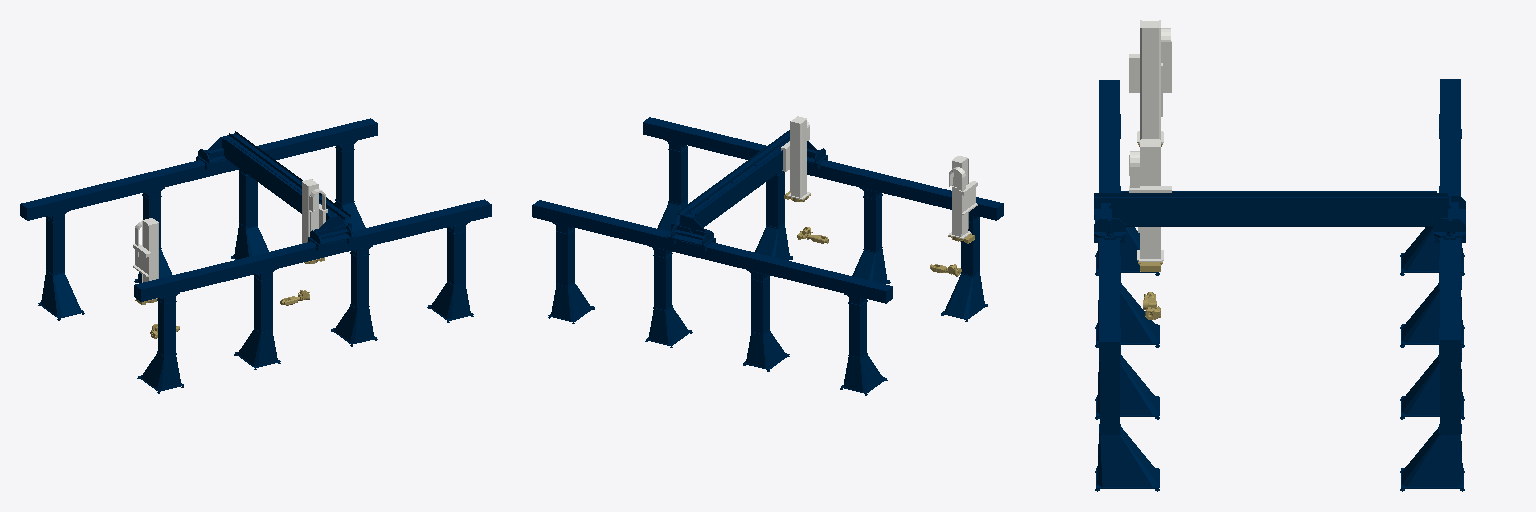
The robot description file, URDF, robot "bar_lab":
<?xml version="1.0" encoding="utf-8"?>
<robot xmlns:xacro="http://ros.org/wiki/xacro" name="bar_lab">
  <!-- Define materials at the top -->
  <!-- Using these as variables is not showing up correctly in RH/GH -->
  <material name="off_white">
    <color rgba="0.9254902 0.9254902 0.9058824 1.0"/>
  </material>
  <material name="gt_blue">
    <color rgba="0.0 0.188235 0.341176 1.0"/>
  </material>
  <material name="gt_gold">
    <color rgba="0.70196 0.63921 0.41176 1.0"/>
  </material>
  <material name="robot_default">
    <color rgba="0.772549 0.7803922 0.7686275 1.0"/>
  </material>
  <!--  -->
  <!-- LINK LIST -->
  <link name="world">
    <visual>
      <origin xyz="0.0 0.0 0.0" rpy="0.0 0.0 0.0"/>
      <geometry>
        <mesh filename="package://bar_lab/meshes/visual/floor.stl"/>
      </geometry>
      <material name="off_white">
        <color rgba="0.9254902 0.9254902 0.9058824 1.0"/>
      </material>
    </visual>
    <collision>
      <origin xyz="0.0 0.0 0.0" rpy="0.0 0.0 0.0"/>
      <geometry>
        <mesh filename="package://bar_lab/meshes/collision/floor.stl"/>
      </geometry>
    </collision>
  </link>
  <link name="columns">
    <visual>
      <origin xyz="0.0 0.0 0.0" rpy="0.0 0.0 0.0"/>
      <geometry>
        <mesh filename="package://bar_lab/meshes/visual/columns.stl"/>
      </geometry>
      <material name="gt_blue">
        <color rgba="0.0 0.188235 0.341176 1.0"/>
      </material>
    </visual>
    <collision>
      <origin xyz="0.0 0.0 0.0" rpy="0.0 0.0 0.0"/>
      <geometry>
        <mesh filename="package://bar_lab/meshes/collision/columns.stl"/>
      </geometry>
    </collision>
  </link>
  <link name="x_rail">
    <visual>
      <origin xyz="0.0 0.0 0.0" rpy="0.0 0.0 0.0"/>
      <geometry>
        <mesh filename="package://bar_lab/meshes/visual/x_rail.stl"/>
      </geometry>
      <material name="gt_blue">
        <color rgba="0.0 0.188235 0.341176 1.0"/>
      </material>
    </visual>
    <collision>
      <origin xyz="0.0 0.0 0.0" rpy="0.0 0.0 0.0"/>
      <geometry>
        <mesh filename="package://bar_lab/meshes/collision/x_rail.stl"/>
      </geometry>
    </collision>
  </link>
  <link name="bridge1">
    <visual>
      <origin xyz="0.0 0.0 0.0" rpy="0.0 0.0 0.0"/>
      <geometry>
        <mesh filename="package://bar_lab/meshes/visual/y_gantry1.stl"/>
      </geometry>
      <material name="gt_blue">
        <color rgba="0.0 0.188235 0.341176 1.0"/>
      </material>
    </visual>
    <collision>
      <origin xyz="0.0 0.0 0.0" rpy="0.0 0.0 0.0"/>
      <geometry>
        <mesh filename="package://bar_lab/meshes/collision/y_gantry1.stl"/>
      </geometry>
    </collision>
    <inertial>
      <origin xyz="0.0 0.0 0.0" rpy="0.0 0.0 0.0"/>
      <mass value="120.0"/>
      <inertia ixx="-4.98" ixy="-0.0" ixz="2.7" iyy="-5.952" iyz="-0.0" izz="0.828"/>
    </inertial>
  </link>
  <link name="robot1_xy_cart">
    <visual>
      <origin xyz="0.0 0.0 0.0" rpy="0.0 0.0 0.0"/>
      <geometry>
        <mesh filename="package://bar_lab/meshes/visual/xy_cart.stl"/>
      </geometry>
      <material name="off_white">
        <color rgba="0.9254902 0.9254902 0.9058824 1.0"/>
      </material>
    </visual>
    <collision>
      <origin xyz="0.0 0.0 0.0" rpy="0.0 0.0 0.0"/>
      <geometry>
        <mesh filename="package://bar_lab/meshes/collision/xy_cart.stl"/>
      </geometry>
    </collision>
    <inertial>
      <origin xyz="0.0 0.0 0.0" rpy="0.0 0.0 0.0"/>
      <mass value="120.0"/>
      <inertia ixx="-4.98" ixy="-0.0" ixz="2.7" iyy="-5.952" iyz="-0.0" izz="0.828"/>
    </inertial>
  </link>
  <link name="robot1_base">
    <visual>
      <origin xyz="0.0 0.0 0.0" rpy="0.0 0.0 0.0"/>
      <geometry>
        <mesh filename="package://bar_lab/meshes/visual/z_axis.stl"/>
      </geometry>
      <material name="off_white">
        <color rgba="0.9254902 0.9254902 0.9058824 1.0"/>
      </material>
    </visual>
    <collision>
      <origin xyz="0.0 0.0 0.0" rpy="0.0 0.0 0.0"/>
      <geometry>
        <mesh filename="package://bar_lab/meshes/collision/z_axis.stl"/>
      </geometry>
    </collision>
    <inertial>
      <origin xyz="0.0 0.0 0.0" rpy="0.0 0.0 0.0"/>
      <mass value="120.0"/>
      <inertia ixx="-4.98" ixy="-0.0" ixz="2.7" iyy="-5.952" iyz="-0.0" izz="0.828"/>
    </inertial>
  </link>
  <link name="robot1_base_link">
    <visual>
      <geometry>
        <mesh filename="package://abb_irb6620/meshes/visual/base_link.stl"/>
      </geometry>
      <material name="gt_gold">
        <color rgba="0.70196 0.63921 0.41176 1.0"/>
      </material>
    </visual>
    <collision>
      <geometry>
        <mesh filename="package://abb_irb6620/meshes/collision/base_link.stl"/>
      </geometry>
    </collision>
    <inertial>
      <origin xyz="0.0 0.0 0.0" rpy="0.0 0.0 0.0"/>
      <mass value="120.0"/>
      <inertia ixx="-4.98" ixy="0.0" ixz="2.7" iyy="-5.952" iyz="0.0" izz="0.828"/>
    </inertial>
  </link>
  <link name="robot1_link_1">
    <visual>
      <geometry>
        <mesh filename="package://abb_irb6620/meshes/visual/link_1.stl"/>
      </geometry>
      <material name="gt_gold">
        <color rgba="0.70196 0.63921 0.41176 1.0"/>
      </material>
    </visual>
    <collision>
      <geometry>
        <mesh filename="package://abb_irb6620/meshes/collision/link_1.stl"/>
      </geometry>
    </collision>
    <inertial>
      <origin xyz="0.18 0.0 0.5" rpy="0.0 0.0 0.0"/>
      <mass value="120.0"/>
      <inertia ixx="-4.98" ixy="0.0" ixz="2.7" iyy="-5.952" iyz="0.0" izz="0.828"/>
    </inertial>
  </link>
  <link name="robot1_link_2">
    <visual>
      <geometry>
        <mesh filename="package://abb_irb6620/meshes/visual/link_2.stl"/>
      </geometry>
      <material name="gt_gold">
        <color rgba="0.70196 0.63921 0.41176 1.0"/>
      </material>
    </visual>
    <collision>
      <geometry>
        <mesh filename="package://abb_irb6620/meshes/collision/link_2.stl"/>
      </geometry>
    </collision>
    <inertial>
      <origin xyz="0.94 0.08 -0.34" rpy="0.0 0.0 0.0"/>
      <mass value="120.0"/>
      <inertia ixx="-2.96" ixy="2.256" ixz="-9.588" iyy="-18.72601" iyz="-0.816" izz="-14.95"/>
    </inertial>
  </link>
  <link name="robot1_link_3">
    <visual>
      <geometry>
        <mesh filename="package://abb_irb6620/meshes/visual/link_3.stl"/>
      </geometry>
      <material name="gt_gold">
        <color rgba="0.70196 0.63921 0.41176 1.0"/>
      </material>
    </visual>
    <collision>
      <geometry>
        <mesh filename="package://abb_irb6620/meshes/collision/link_3.stl"/>
      </geometry>
    </collision>
    <inertial>
      <origin xyz="0.07 -0.266 0.088" rpy="0.0 0.0 0.0"/>
      <mass value="120.0"/>
      <inertia ixx="1.345" ixy="0.5586" ixz="0.1848" iyy="4.65068" iyz="-0.70224" izz="2.76032"/>
    </inertial>
  </link>
  <link name="robot1_link_4">
    <visual>
      <geometry>
        <mesh filename="package://abb_irb6620/meshes/visual/link_4.stl"/>
      </geometry>
      <material name="gt_gold">
        <color rgba="0.70196 0.63921 0.41176 1.0"/>
      </material>
    </visual>
    <collision>
      <geometry>
        <mesh filename="package://abb_irb6620/meshes/collision/link_4.stl"/>
      </geometry>
    </collision>
    <inertial>
      <origin xyz="0.0 0.0 1.0" rpy="0.0 0.0 0.0"/>
      <mass value="40.0"/>
      <inertia ixx="-8.0" ixy="0.0" ixz="0.0" iyy="-8.0" iyz="0.0" izz="0.482"/>
    </inertial>
  </link>
  <link name="robot1_link_5">
    <visual>
      <geometry>
        <mesh filename="package://abb_irb6620/meshes/visual/link_5.stl"/>
      </geometry>
      <material name="gt_gold">
        <color rgba="0.70196 0.63921 0.41176 1.0"/>
      </material>
    </visual>
    <collision>
      <geometry>
        <mesh filename="package://abb_irb6620/meshes/collision/link_5.stl"/>
      </geometry>
    </collision>
    <inertial>
      <origin xyz="0.14 0.0 0.0" rpy="0.0 0.0 0.0"/>
      <mass value="10.0"/>
      <inertia ixx="0.04" ixy="0.0" ixz="0.0" iyy="-0.009" iyz="0.0" izz="-0.004"/>
    </inertial>
  </link>
  <link name="robot1_link_6">
    <visual>
      <geometry>
        <mesh filename="package://abb_irb6620/meshes/visual/link_6.stl"/>
      </geometry>
      <material name="gt_gold">
        <color rgba="0.70196 0.63921 0.41176 1.0"/>
      </material>
    </visual>
    <collision>
      <geometry>
        <mesh filename="package://abb_irb6620/meshes/collision/link_6.stl"/>
      </geometry>
    </collision>
    <inertial>
      <origin xyz="0.081 -0.091 0.332" rpy="0.0 0.0 0.0"/>
      <mass value="5.0"/>
      <inertia ixx="-0.29652" ixy="-0.03686" ixz="0.09396" iyy="-0.28792" iyz="-0.10556" izz="-0.04621"/>
    </inertial>
  </link>
  <link name="robot1_tool0"/>
  <link name="bridge2">
    <visual>
      <origin xyz="0.0 0 0.0" rpy="0.0 0.0 0"/>
      <geometry>
        <mesh filename="package://bar_lab/meshes/visual/y_gantry2.stl"/>
      </geometry>
      <material name="gt_blue">
        <color rgba="0.0 0.188235 0.341176 1.0"/>
      </material>
    </visual>
    <collision>
      <origin xyz="0.0 0 0.0" rpy="0.0 0.0 0"/>
      <geometry>
        <mesh filename="package://bar_lab/meshes/collision/y_gantry2.stl"/>
      </geometry>
    </collision>
    <inertial>
      <origin xyz="0.0 0.0 0.0" rpy="0.0 0.0 0.0"/>
      <mass value="120.0"/>
      <inertia ixx="-4.98" ixy="-0.0" ixz="2.7" iyy="-5.952" iyz="-0.0" izz="0.828"/>
    </inertial>
  </link>
  <link name="robot2_xy_cart">
    <visual>
      <origin xyz="0.0 0.0 0.0" rpy="0.0 0.0 -3.1415926535895866"/>
      <geometry>
        <mesh filename="package://bar_lab/meshes/visual/xy_cart.stl"/>
      </geometry>
      <material name="off_white">
        <color rgba="0.9254902 0.9254902 0.9058824 1.0"/>
      </material>
    </visual>
    <collision>
      <origin xyz="0.0 0.0 0.0" rpy="0.0 0.0 -3.1415926535895866"/>
      <geometry>
        <mesh filename="package://bar_lab/meshes/collision/xy_cart.stl"/>
      </geometry>
    </collision>
    <inertial>
      <origin xyz="0.0 0.0 0.0" rpy="0.0 0.0 0.0"/>
      <mass value="120.0"/>
      <inertia ixx="-4.98" ixy="-0.0" ixz="2.7" iyy="-5.952" iyz="-0.0" izz="0.828"/>
    </inertial>
  </link>
  <link name="robot2_base">
    <visual>
      <origin xyz="0.0 0.0 0.0" rpy="0.0 0.0 -3.1415926535895866"/>
      <geometry>
        <mesh filename="package://bar_lab/meshes/visual/z_axis.stl"/>
      </geometry>
      <material name="off_white">
        <color rgba="0.9254902 0.9254902 0.9058824 1.0"/>
      </material>
    </visual>
    <collision>
      <origin xyz="0.0 0.0 0.0" rpy="0.0 0.0 -3.1415926535895866"/>
      <geometry>
        <mesh filename="package://bar_lab/meshes/collision/z_axis.stl"/>
      </geometry>
    </collision>
    <inertial>
      <origin xyz="0.0 0.0 0.0" rpy="0.0 0.0 0.0"/>
      <mass value="120.0"/>
      <inertia ixx="-4.98" ixy="-0.0" ixz="2.7" iyy="-5.952" iyz="-0.0" izz="0.828"/>
    </inertial>
  </link>
  <link name="robot2_base_link">
    <visual>
      <geometry>
        <mesh filename="package://abb_irb6620/meshes/visual/base_link.stl"/>
      </geometry>
      <material name="gt_gold">
        <color rgba="0.70196 0.63921 0.41176 1.0"/>
      </material>
    </visual>
    <collision>
      <geometry>
        <mesh filename="package://abb_irb6620/meshes/collision/base_link.stl"/>
      </geometry>
    </collision>
    <inertial>
      <origin xyz="0.0 0.0 0.0" rpy="0.0 0.0 0.0"/>
      <mass value="120.0"/>
      <inertia ixx="-4.98" ixy="0.0" ixz="2.7" iyy="-5.952" iyz="0.0" izz="0.828"/>
    </inertial>
  </link>
  <link name="robot2_link_1">
    <visual>
      <geometry>
        <mesh filename="package://abb_irb6620/meshes/visual/link_1.stl"/>
      </geometry>
      <material name="gt_gold">
        <color rgba="0.70196 0.63921 0.41176 1.0"/>
      </material>
    </visual>
    <collision>
      <geometry>
        <mesh filename="package://abb_irb6620/meshes/collision/link_1.stl"/>
      </geometry>
    </collision>
    <inertial>
      <origin xyz="0.18 0.0 0.5" rpy="0.0 0.0 0.0"/>
      <mass value="120.0"/>
      <inertia ixx="-4.98" ixy="0.0" ixz="2.7" iyy="-5.952" iyz="0.0" izz="0.828"/>
    </inertial>
  </link>
  <link name="robot2_link_2">
    <visual>
      <geometry>
        <mesh filename="package://abb_irb6620/meshes/visual/link_2.stl"/>
      </geometry>
      <material name="gt_gold">
        <color rgba="0.70196 0.63921 0.41176 1.0"/>
      </material>
    </visual>
    <collision>
      <geometry>
        <mesh filename="package://abb_irb6620/meshes/collision/link_2.stl"/>
      </geometry>
    </collision>
    <inertial>
      <origin xyz="0.94 0.08 -0.34" rpy="0.0 0.0 0.0"/>
      <mass value="120.0"/>
      <inertia ixx="-2.96" ixy="2.256" ixz="-9.588" iyy="-18.72601" iyz="-0.816" izz="-14.95"/>
    </inertial>
  </link>
  <link name="robot2_link_3">
    <visual>
      <geometry>
        <mesh filename="package://abb_irb6620/meshes/visual/link_3.stl"/>
      </geometry>
      <material name="gt_gold">
        <color rgba="0.70196 0.63921 0.41176 1.0"/>
      </material>
    </visual>
    <collision>
      <geometry>
        <mesh filename="package://abb_irb6620/meshes/collision/link_3.stl"/>
      </geometry>
    </collision>
    <inertial>
      <origin xyz="0.07 -0.266 0.088" rpy="0.0 0.0 0.0"/>
      <mass value="120.0"/>
      <inertia ixx="1.345" ixy="0.5586" ixz="0.1848" iyy="4.65068" iyz="-0.70224" izz="2.76032"/>
    </inertial>
  </link>
  <link name="robot2_link_4">
    <visual>
      <geometry>
        <mesh filename="package://abb_irb6620/meshes/visual/link_4.stl"/>
      </geometry>
      <material name="gt_gold">
        <color rgba="0.70196 0.63921 0.41176 1.0"/>
      </material>
    </visual>
    <collision>
      <geometry>
        <mesh filename="package://abb_irb6620/meshes/collision/link_4.stl"/>
      </geometry>
    </collision>
    <inertial>
      <origin xyz="0.0 0.0 1.0" rpy="0.0 0.0 0.0"/>
      <mass value="40.0"/>
      <inertia ixx="-8.0" ixy="0.0" ixz="0.0" iyy="-8.0" iyz="0.0" izz="0.482"/>
    </inertial>
  </link>
  <link name="robot2_link_5">
    <visual>
      <geometry>
        <mesh filename="package://abb_irb6620/meshes/visual/link_5.stl"/>
      </geometry>
      <material name="gt_gold">
        <color rgba="0.70196 0.63921 0.41176 1.0"/>
      </material>
    </visual>
    <collision>
      <geometry>
        <mesh filename="package://abb_irb6620/meshes/collision/link_5.stl"/>
      </geometry>
    </collision>
    <inertial>
      <origin xyz="0.14 0.0 0.0" rpy="0.0 0.0 0.0"/>
      <mass value="10.0"/>
      <inertia ixx="0.04" ixy="0.0" ixz="0.0" iyy="-0.009" iyz="0.0" izz="-0.004"/>
    </inertial>
  </link>
  <link name="robot2_link_6">
    <visual>
      <geometry>
        <mesh filename="package://abb_irb6620/meshes/visual/link_6.stl"/>
      </geometry>
      <material name="gt_gold">
        <color rgba="0.70196 0.63921 0.41176 1.0"/>
      </material>
    </visual>
    <collision>
      <geometry>
        <mesh filename="package://abb_irb6620/meshes/collision/link_6.stl"/>
      </geometry>
    </collision>
    <inertial>
      <origin xyz="0.081 -0.091 0.332" rpy="0.0 0.0 0.0"/>
      <mass value="5.0"/>
      <inertia ixx="-0.29652" ixy="-0.03686" ixz="0.09396" iyy="-0.28792" iyz="-0.10556" izz="-0.04621"/>
    </inertial>
  </link>
  <link name="robot2_tool0"/>
  <!--  -->
  <!--  -->
  <!-- GLOBAL JOINTS -->
  <joint name="world_joint" type="fixed">
    <parent link="world"/>
    <child link="columns"/>
    <axis xyz="1.0 0.0 0.0"/>
    <origin xyz="0.0 0.0 0.0" rpy="0.0 0.0 0.0"/>
  </joint>
  <joint name="columns_joint" type="fixed">
    <parent link="columns"/>
    <child link="x_rail"/>
    <axis xyz="1.0 0.0 0.0"/>
    <origin xyz="0.0 0.0 0.0" rpy="0.0 0.0 0.0"/>
  </joint>
  <!--  -->
  <!--  -->
  <!-- BRIDGE 1 JOINTS -->
  <joint name="bridge1_joint_EA_X" type="prismatic">
    <parent link="x_rail"/>
    <child link="bridge1"/>
    <axis xyz="1.0 0.0 0.0"/>
    <dynamics damping="0.2" friction="0.0"/>
    <limit lower="0.0" upper="13.005" effort="100000.0" velocity="2.618"/>
    <origin xyz="0.0 0.0 0.0" rpy="0.0 0.0 0.0"/>
  </joint>
  <joint name="robot1_joint_EA_Y" type="prismatic">
    <parent link="bridge1"/>
    <child link="robot1_xy_cart"/>
    <axis xyz="0.0 1.0 0.0"/>
    <dynamics damping="0.2" friction="0.0"/>
    <limit lower="0.0" upper="9.65" effort="100000.0" velocity="2.618"/>
    <origin xyz="0.0 0.0 0.0" rpy="0.0 0.0 0.0"/>
  </joint>
  <joint name="robot1_joint_EA_Z" type="prismatic">
    <parent link="robot1_xy_cart"/>
    <child link="robot1_base"/>
    <axis xyz="0.0 0.0 1.0"/>
    <dynamics damping="0.2" friction="0.0"/>
    <limit lower="2.956" upper="4.706" effort="100000.0" velocity="2.618"/>
    <origin xyz="0.0 0.0 0.0" rpy="0.0 0.0 0.0"/>
  </joint>
  <!--  -->
  <!--  -->
  <!-- ROBOT 1 JOINTS -->
  <joint name="robot1_joint_0" type="fixed">
    <parent link="robot1_base"/>
    <child link="robot1_base_link"/>
    <axis xyz="1.0 0.0 0.0"/>
    <dynamics damping="0.2" friction="0.0"/>
    <origin xyz="0.0 0.0 0.0" rpy="-3.1415926535895866 0.0 0.0"/>
  </joint>
  <joint name="robot1_joint_1" type="revolute">
    <parent link="robot1_base_link"/>
    <child link="robot1_link_1"/>
    <axis xyz="0.0 0.0 1.0"/>
    <dynamics damping="0.2" friction="0.0"/>
    <limit lower="-2.96706" upper="2.96706" effort="100000.0" velocity="2.618"/>
    <origin xyz="0.0 0.0 0.0" rpy="0.0 0.0 0.0"/>
  </joint>
  <joint name="robot1_joint_2" type="revolute">
    <parent link="robot1_link_1"/>
    <child link="robot1_link_2"/>
    <axis xyz="0.0 1.0 0.0"/>
    <dynamics damping="0.2" friction="0.0"/>
    <limit lower="-1.13446" upper="2.44346" effort="100000.0" velocity="2.618"/>
    <origin xyz="0.3200 0.0 0.6800" rpy="0.0 0.0 0.0"/>
  </joint>
  <joint name="robot1_joint_3" type="revolute">
    <parent link="robot1_link_2"/>
    <child link="robot1_link_3"/>
    <axis xyz="0.0 1.0 0.0"/>
    <dynamics damping="0.2" friction="0.0"/>
    <limit lower="-3.14159" upper="1.22173" effort="100000.0" velocity="2.618"/>
    <origin xyz="0.0 0.0 0.9741" rpy="0.0 0.0 0.0"/>
  </joint>
  <joint name="robot1_joint_4" type="revolute">
    <parent link="robot1_link_3"/>
    <child link="robot1_link_4"/>
    <axis xyz="1.0 0.0 0.0"/>
    <dynamics damping="0.2" friction="0.0"/>
    <limit lower="-5.23599" upper="5.23599" effort="10000.0" velocity="6.2832"/>
    <origin xyz="0.1946 0.0 0.1988" rpy="0.0 0.0 0.0"/>
  </joint>
  <joint name="robot1_joint_5" type="revolute">
    <parent link="robot1_link_4"/>
    <child link="robot1_link_5"/>
    <axis xyz="0.0 1.0 0.0"/>
    <dynamics damping="0.2" friction="0.0"/>
    <limit lower="-2.26893" upper="2.26893" effort="100000.0" velocity="6.2832"/>
    <origin xyz="0.6924 0.0 0.0" rpy="0.0 0.0 0.0"/>
  </joint>
  <joint name="robot1_joint_6" type="revolute">
    <parent link="robot1_link_5"/>
    <child link="robot1_link_6"/>
    <axis xyz="1.0 0.0 0.0"/>
    <dynamics damping="0.2" friction="0.0"/>
    <limit lower="-5.23599" upper="5.23599" effort="100000.0" velocity="7.854"/>
    <origin xyz="0.174 0.0 0.0" rpy="0.0 0.0 0.0"/>
  </joint>
  <!-- rotate joint so +z is the positive direction of tcp, specify tool offset in +z -->
  <joint name="robot1_joint_6-tool0" type="fixed">
    <parent link="robot1_link_6"/>
    <child link="robot1_tool0"/>
    <origin xyz="0.0 0.0 0.0" rpy="0.0 1.5707963267948966 0.0"/>
  </joint>
  <!--  -->
  <!--  -->
  <!-- BRIDGE 2 JOINTS -->
  <joint name="bridge2_joint_EA_X" type="prismatic">
    <parent link="x_rail"/>
    <child link="bridge2"/>
    <axis xyz="1.0 0.0 0.0"/>
    <dynamics damping="0.2" friction="0.0"/>
    <limit lower="1.400" upper="14.405" effort="100000.0" velocity="2.618"/>
    <origin xyz="0.0 0.0 0.0" rpy="0.0 0.0 0.0"/>
  </joint>
  <joint name="robot2_joint_EA_Y" type="prismatic">
    <parent link="bridge2"/>
    <child link="robot2_xy_cart"/>
    <axis xyz="0.0 1.0 0.0"/>
    <dynamics damping="0.2" friction="0.0"/>
    <limit lower="0.0" upper="9.65" effort="100000.0" velocity="2.618"/>
    <origin xyz="0.0 0.0 0.0" rpy="0.0 0.0 0.0"/>
  </joint>
  <joint name="robot2_joint_EA_Z" type="prismatic">
    <parent link="robot2_xy_cart"/>
    <child link="robot2_base"/>
    <axis xyz="0.0 0.0 1.0"/>
    <dynamics damping="0.2" friction="0.0"/>
    <limit lower="2.956" upper="4.706" effort="100000.0" velocity="2.618"/>
    <origin xyz="0.0 0.0 0.0" rpy="0.0 0.0 0.0"/>
  </joint>
  <!--  -->
  <!--  -->
  <!-- ROBOT 2 JOINTS -->
  <joint name="robot2_joint_0" type="fixed">
    <parent link="robot2_base"/>
    <child link="robot2_base_link"/>
    <axis xyz="1.0 0.0 0.0"/>
    <dynamics damping="0.2" friction="0.0"/>
    <origin xyz="0.0 0.0 0.0" rpy="-3.1415926535895866 0.0 -3.1415926535895866"/>
  </joint> <joint name="robot2_joint_1" type="revolute">
    <parent link="robot2_base_link"/>
    <child link="robot2_link_1"/>
    <axis xyz="0.0 0.0 1.0"/>
    <dynamics damping="0.2" friction="0.0"/>
    <limit lower="-2.96706" upper="2.96706" effort="100000.0" velocity="2.618"/>
    <origin xyz="0.0 0.0 0.0" rpy="0.0 0.0 0.0"/>
  </joint>
  <joint name="robot2_joint_2" type="revolute">
    <parent link="robot2_link_1"/>
    <child link="robot2_link_2"/>
    <axis xyz="0.0 1.0 0.0"/>
    <dynamics damping="0.2" friction="0.0"/>
    <limit lower="-1.13446" upper="2.44346" effort="100000.0" velocity="2.618"/>
    <origin xyz="0.3200 0.0 0.6800" rpy="0.0 0.0 0.0"/>
  </joint>
  <joint name="robot2_joint_3" type="revolute">
    <parent link="robot2_link_2"/>
    <child link="robot2_link_3"/>
    <axis xyz="0.0 1.0 0.0"/>
    <dynamics damping="0.2" friction="0.0"/>
    <limit lower="-3.14159" upper="1.22173" effort="100000.0" velocity="2.618"/>
    <origin xyz="0.0 0.0 0.9741" rpy="0.0 0.0 0.0"/>
  </joint>
  <joint name="robot2_joint_4" type="revolute">
    <parent link="robot2_link_3"/>
    <child link="robot2_link_4"/>
    <axis xyz="1.0 0.0 0.0"/>
    <dynamics damping="0.2" friction="0.0"/>
    <limit lower="-5.23599" upper="5.23599" effort="10000.0" velocity="6.2832"/>
    <origin xyz="0.1946 0.0 0.1988" rpy="0.0 0.0 0.0"/>
  </joint>
  <joint name="robot2_joint_5" type="revolute">
    <parent link="robot2_link_4"/>
    <child link="robot2_link_5"/>
    <axis xyz="0.0 1.0 0.0"/>
    <dynamics damping="0.2" friction="0.0"/>
    <limit lower="-2.26893" upper="2.26893" effort="100000.0" velocity="6.2832"/>
    <origin xyz="0.6924 0.0 0.0" rpy="0.0 0.0 0.0"/>
  </joint>
  <joint name="robot2_joint_6" type="revolute">
    <parent link="robot2_link_5"/>
    <child link="robot2_link_6"/>
    <axis xyz="1.0 0.0 0.0"/>
    <dynamics damping="0.2" friction="0.0"/>
    <limit lower="-5.23599" upper="5.23599" effort="100000.0" velocity="7.854"/>
    <origin xyz="0.174 0.0 0.0" rpy="0.0 0.0 0.0"/>
  </joint>
  <!-- rotate joint so +z is the positive direction of tcp, specify tool offset in +z -->
  <joint name="robot2_joint_6-tool0" type="fixed">
    <parent link="robot2_link_6"/>
    <child link="robot2_tool0"/>
    <origin xyz="0.0 0.0 0.0" rpy="0.0 1.5707963267948966 0.0"/>
  </joint>
</robot>

--- What the picture shows (computed from the rendered views, not written in the file) ---
The picture shows the robot from 3 angles, left to right: view 1: azimuth 30°, elevation 25°; view 2: azimuth 150°, elevation 25°; view 3: azimuth 270°, elevation 25°; orthographic projection.
Model bar_lab with 25 links and 24 joints (12 revolute, 6 prismatic, 6 fixed), rooted at world, posed all joints at 0 but 3 set to mid-range because 0 is outside their limits (robot1_joint_EA_Z = 3.83, bridge2_joint_EA_X = 7.9, robot2_joint_EA_Z = 3.83).
Links seen in each view (by area): view 1: columns, x_rail, bridge2, robot2_base, robot1_base; view 2: columns, x_rail, bridge2, robot2_base, robot1_base; view 3: columns, bridge2, x_rail, robot1_base, robot2_base, robot1_xy_cart.
Link boxes in pixels (bbox=[...]): columns: bbox=[38, 141, 473, 393]; x_rail: bbox=[20, 118, 491, 301]; bridge2: bbox=[196, 131, 355, 250]; robot2_base: bbox=[302, 179, 325, 260]; robot1_base: bbox=[135, 218, 158, 299]; columns: bbox=[548, 140, 987, 395]; x_rail: bbox=[532, 117, 1003, 303]; bridge2: bbox=[667, 130, 827, 251]; robot2_base: bbox=[788, 116, 810, 199]; robot1_base: bbox=[949, 156, 970, 238]; columns: bbox=[1095, 114, 1464, 491]; bridge2: bbox=[1094, 191, 1465, 242]; x_rail: bbox=[1099, 79, 1460, 359]; robot1_base: bbox=[1137, 20, 1171, 143]; robot2_base: bbox=[1129, 139, 1163, 261]; robot1_xy_cart: bbox=[1129, 54, 1171, 92].
Size in the robot's own frame: 17.54 by 10.52 by 7.44 metres.
17 mesh visuals loaded from 14 distinct referenced files (10 binary STL); not drawn: 6 (reference not matched to a file when rendering).
